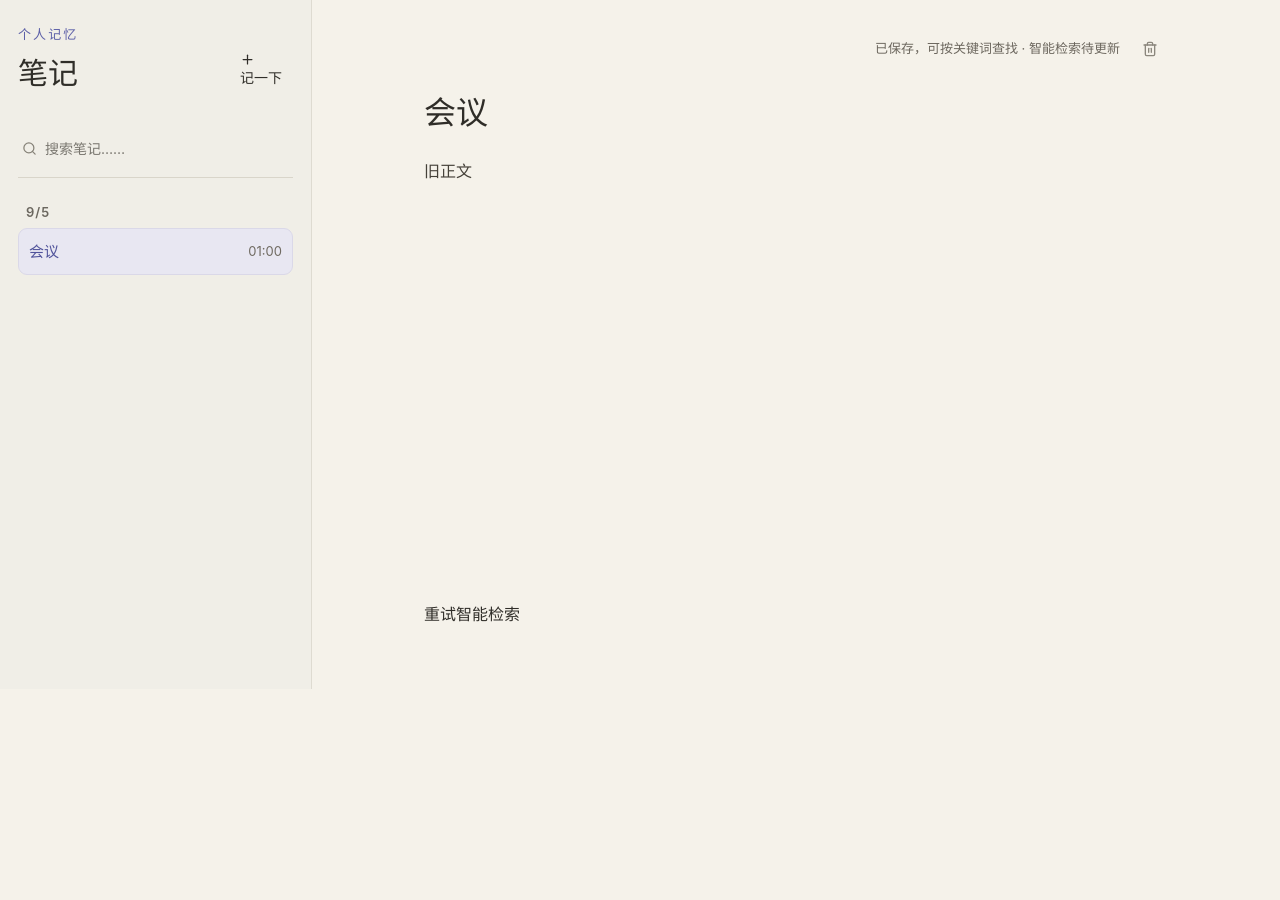
it: keeps the current version's saved/search state when an older index request finishes late
Click the button "重试智能检索": coordinates (472, 615) [424, 597, 520, 633]
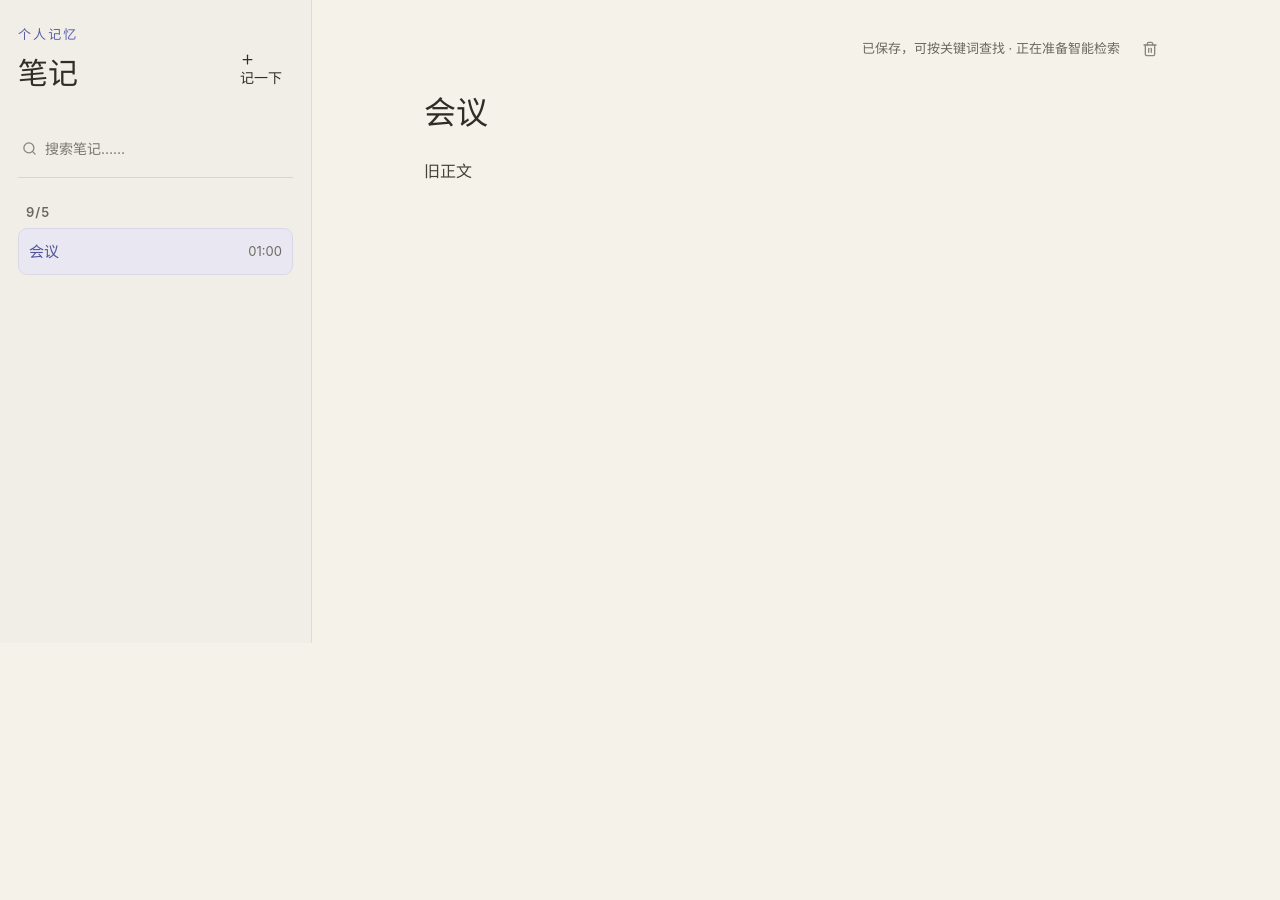
Now the text "已保存，可按关键词查找 · 正在准备智能检索" is shown, box [862, 39, 1120, 59]
Replace the text in the text box named "笔记正文" with "新正文": coordinates (796, 372) [424, 157, 1168, 587]
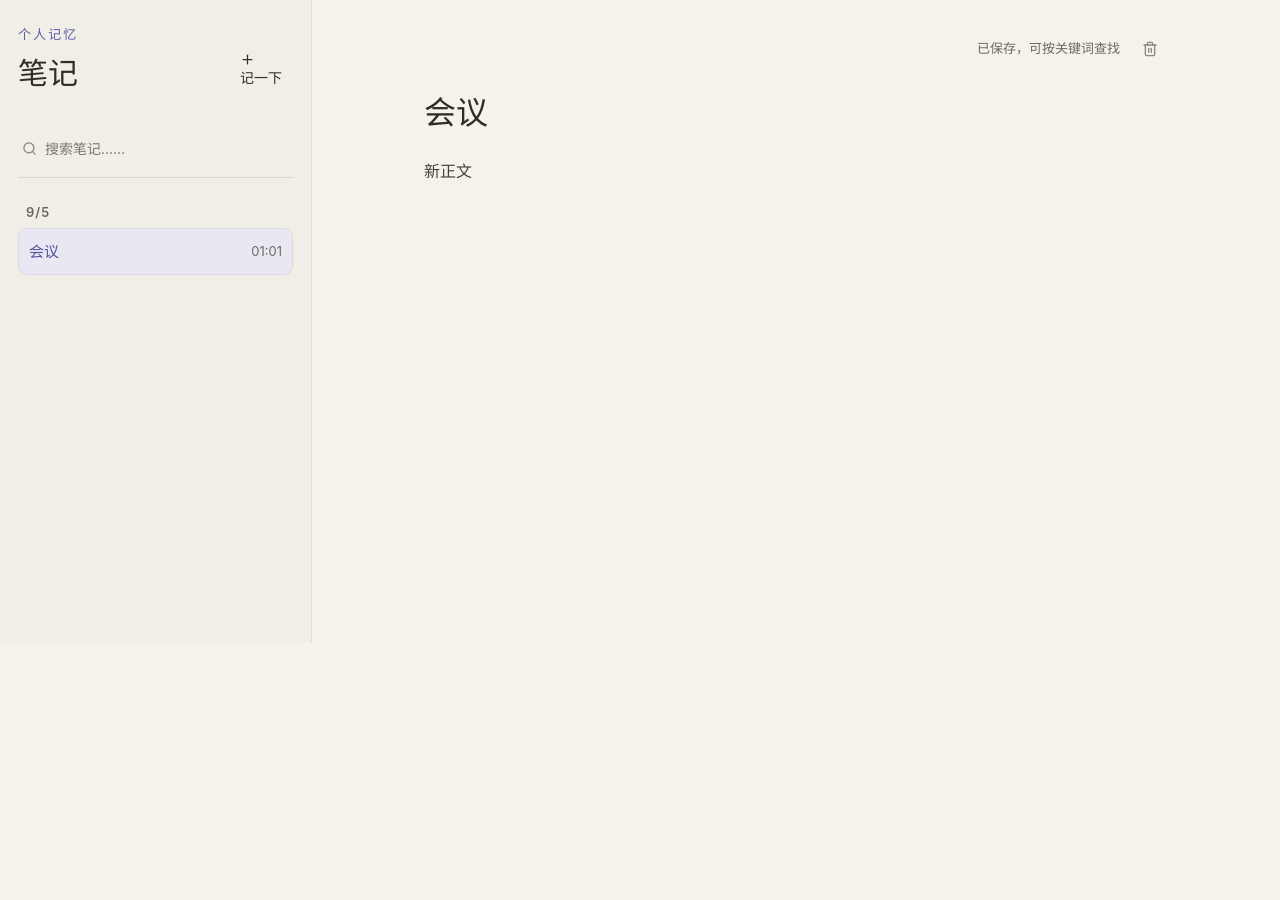
Expected: the text "已保存，可按关键词查找" is shown, [977, 39, 1120, 59]
Now the text "正在准备智能检索" is gone
